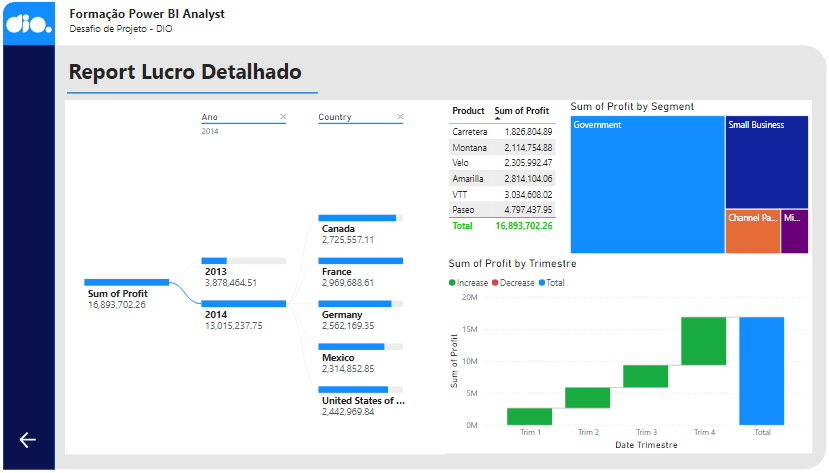

Layout of this report page (visuals, bound fields, positions):
{"tool":"powerbi","page":{"name":"Report Lucro","canvas":[1280,720],"ordinal":1},"visuals":[{"type":"shape","box":[97.5,129.1,386.2,21.2],"z":0,"group":"g1"},{"type":"shape","box":[51.7,66.7,1215,653.3],"z":0},{"type":"textbox","box":[95,78.8,378.1,59.2],"z":1000,"group":"g1"},{"type":"shape","box":[0,21.7,80,698.3],"z":1000},{"type":"shape","box":[0,0,80,67.1],"z":2000},{"type":"image","title":"logo_dio","box":[0,5.9,80,53.5],"z":3000},{"type":"shape","box":[80,0,1200,67.1],"z":4000},{"type":"group","id":"g1","title":"Tittle Report","box":[95,78.8,388.8,71.6],"z":5000},{"type":"textbox","box":[96.2,0,300,66.2],"z":6000},{"type":"actionButton","box":[22.2,654.4,34.4,40],"z":7000},{"type":"decompositionTreeVisual","fields":{"Analyze":["Sum(financials.Profit)"],"ExplainBy":["financials.Date.Variation.Hierarquia de datas.Ano","financials.Country"]},"box":[95,150,585,545],"z":8000},{"type":"waterfallChart","fields":{"Y":["Sum(financials.Profit)"],"Category":["financials.Date.Variation.Hierarquia de datas.Trimestre"]},"box":[680,391.7,565,301.7],"z":9000},{"type":"treemap","fields":{"Values":["Sum(financials.Profit)"],"Group":["financials.Segment"]},"box":[868.3,150,376.7,241.7],"z":10000},{"type":"tableEx","fields":{"Values":["financials.Product","Sum(financials.Profit)"]},"box":[680,150,188.3,241.7],"z":12001}]}

Visuals, with their boxes on the page's 1280x720 design canvas (x1, y1, x2, y2). These are canvas units, not pixel positions in the 829x473 screenshot, which may show the page scaled, cropped or inside an application window:
shape: crop(98, 129, 484, 150)
shape: crop(52, 67, 1267, 720)
textbox: crop(95, 79, 473, 138)
shape: crop(0, 22, 80, 720)
shape: crop(0, 0, 80, 67)
"logo_dio" image: crop(0, 6, 80, 59)
shape: crop(80, 0, 1280, 67)
"Tittle Report" group: crop(95, 79, 484, 150)
textbox: crop(96, 0, 396, 66)
actionButton: crop(22, 654, 57, 694)
decompositionTreeVisual - Sum(financials.Profit) x financials.Date.Variation.Hierarquia de datas.Ano: crop(95, 150, 680, 695)
waterfallChart - Sum(financials.Profit) x financials.Date.Variation.Hierarquia de datas.Trimestre: crop(680, 392, 1245, 693)
treemap - Sum(financials.Profit) x financials.Segment: crop(868, 150, 1245, 392)
tableEx - financials.Product x Sum(financials.Profit): crop(680, 150, 868, 392)
